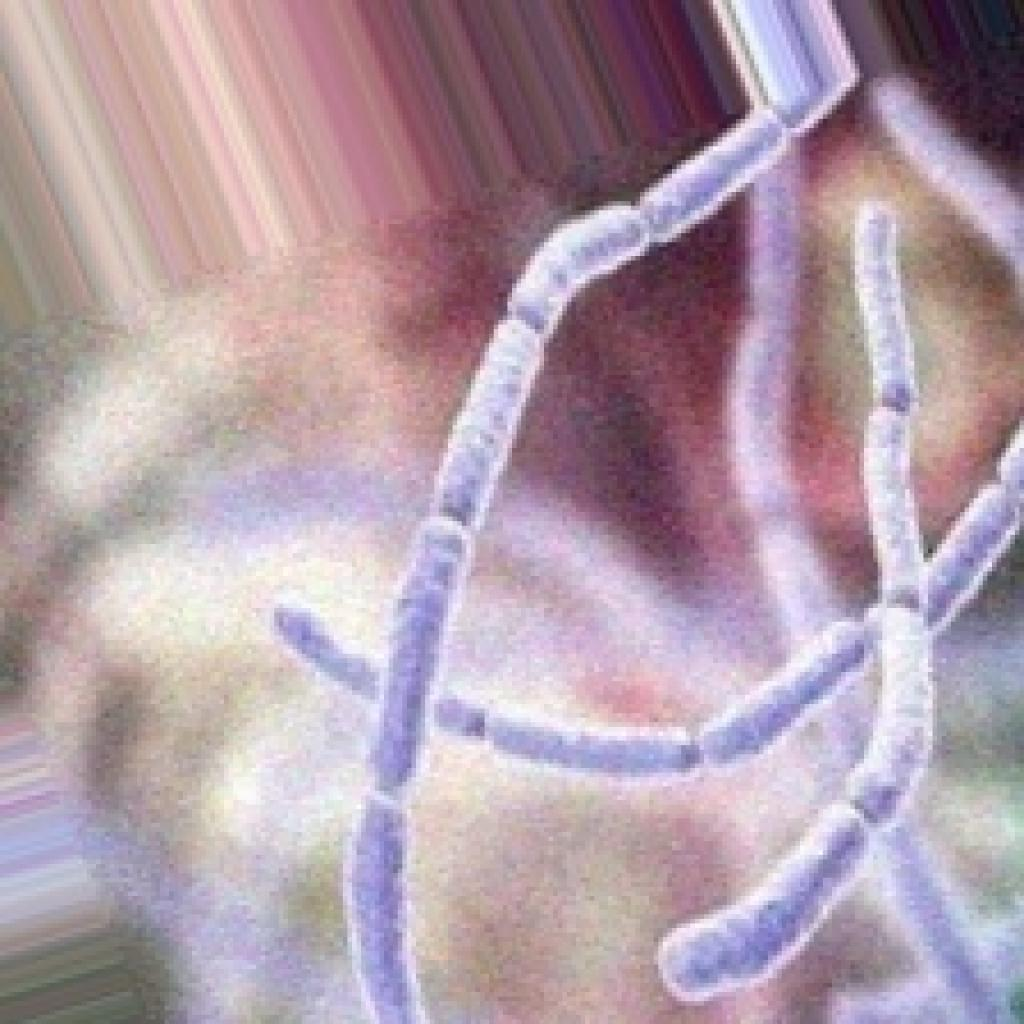Sprialbacteria: (146, 113, 1024, 1024)
